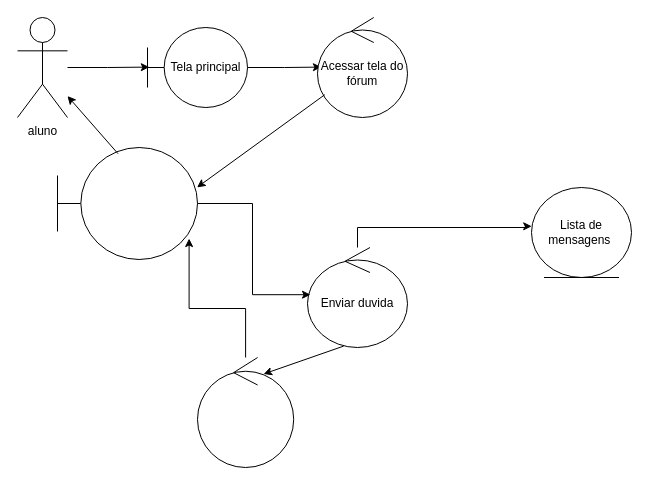
This 649x485 diagram has some shape labels left out. Here are the shapes that lost their labels. From the top down, the centre of each, then its label:
At point (127, 203): "Tela do forum".
At point (245, 412): "mensagem de duvida enviada com sucesso".
